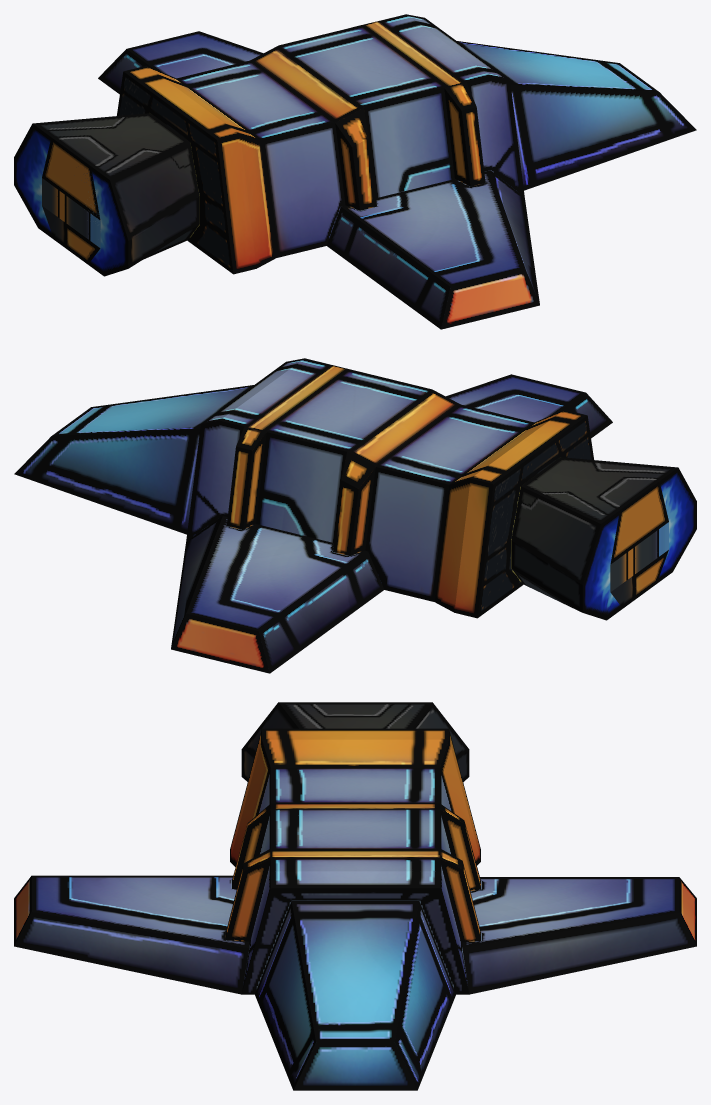
Rendered from Player_test.fbx.
The picture shows the model from 3 angles, top to bottom: view 1: azimuth 30°, elevation 25°; view 2: azimuth 150°, elevation 25°; view 3: azimuth 270°, elevation 25°; orthographic projection.
Visible parts, largest first — view 1: Plane.003, Plane.004, Plane.005, Plane.001, Plane.002; view 2: Plane.003, Plane.002, Plane.005, Plane.001, Plane.004; view 3: Plane.003, Plane.001, Plane.004, Plane.002, Plane.005.
Part boxes in pixels (x1,y1,x2,y2): Plane.003: [42, 14, 524, 274]; Plane.004: [326, 170, 539, 329]; Plane.005: [14, 113, 199, 276]; Plane.001: [457, 41, 696, 190]; Plane.002: [98, 31, 263, 94]; Plane.003: [186, 358, 668, 618]; Plane.002: [171, 516, 384, 673]; Plane.005: [511, 457, 696, 620]; Plane.001: [14, 385, 253, 534]; Plane.004: [446, 374, 612, 438]; Plane.003: [225, 728, 480, 994]; Plane.001: [255, 901, 455, 1090]; Plane.004: [14, 875, 249, 994]; Plane.002: [462, 877, 696, 994]; Plane.005: [241, 702, 469, 781].
Bounding box in the file's own units: 600 × 118 × 600.
